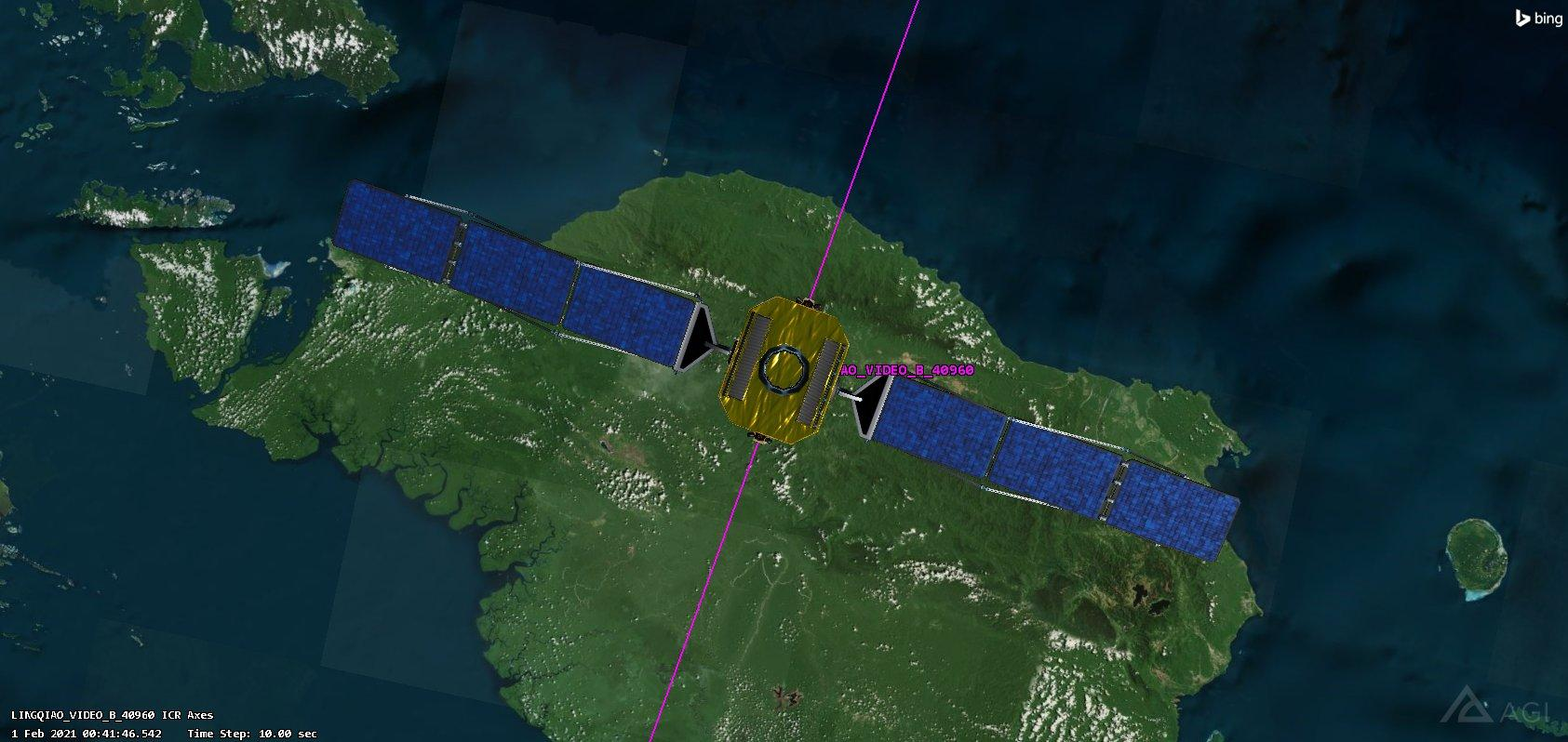body: (717, 296, 851, 445)
solar: (870, 371, 1241, 561), (331, 177, 695, 369)
thruster: (746, 431, 756, 439), (765, 436, 773, 445), (812, 303, 822, 310), (795, 296, 804, 303), (757, 433, 764, 441), (806, 300, 811, 309)
